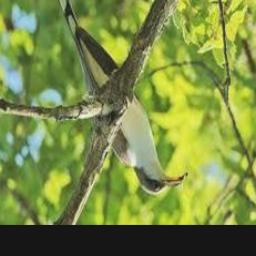Cuckoo: (49, 0, 184, 195)
